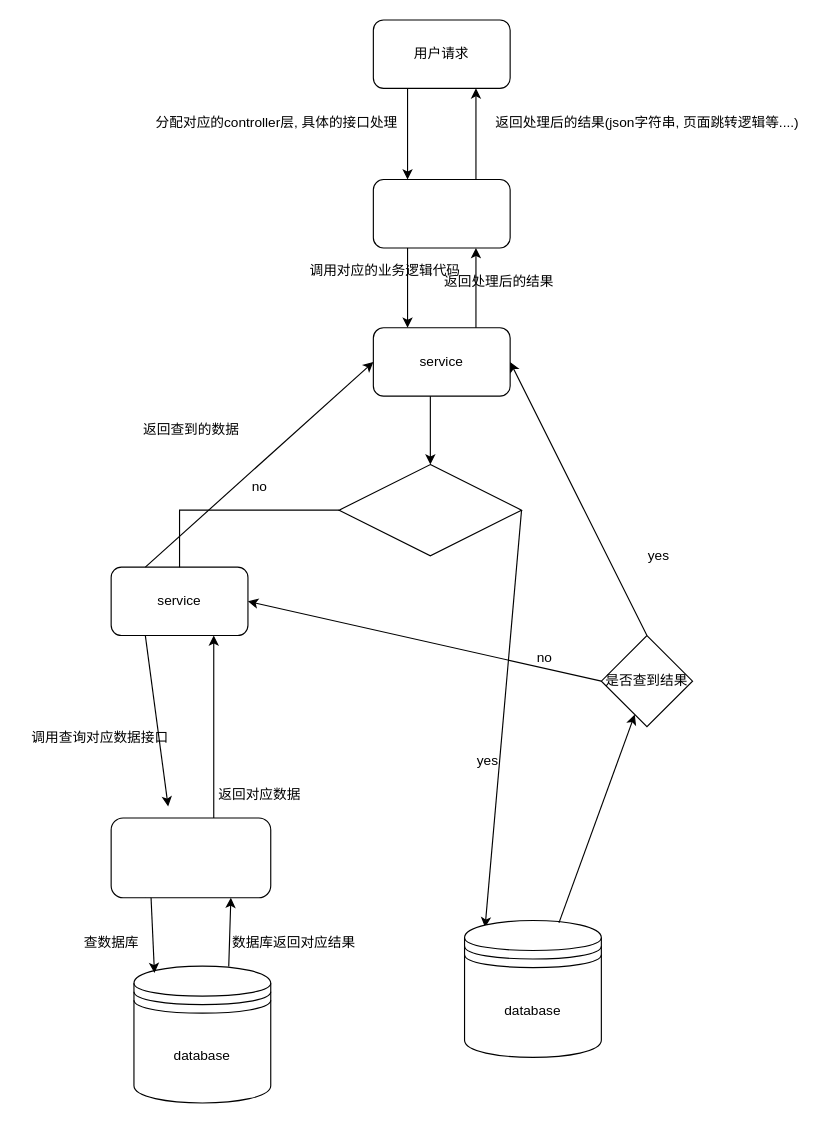
Some shapes in this 825 by 1123 pixel diagram are drawn without their labels. The shapes that lost their labels are listed below. From the top down, each one's box as (x1, y1, x2, y2) in pixels, then its label:
(372, 178, 510, 248): controller
(338, 463, 522, 556): 该需求是否先查redis
(110, 817, 271, 898): dao
